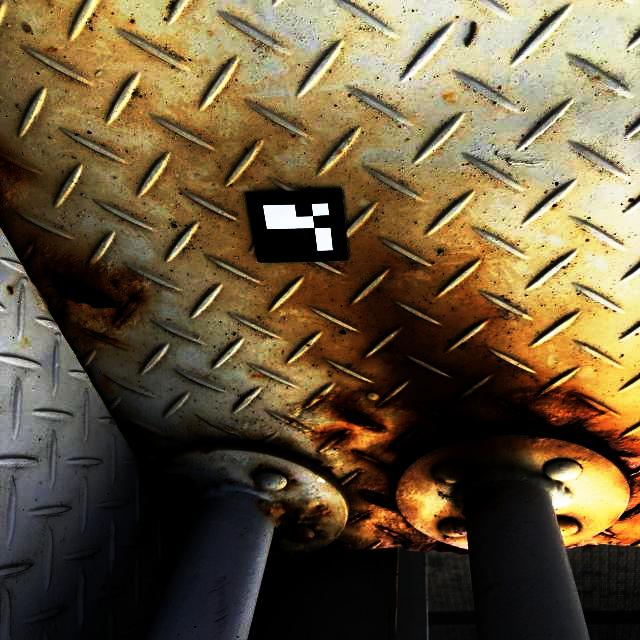Corrosion: (292, 387, 640, 555), (25, 249, 145, 348), (260, 501, 329, 559), (0, 157, 24, 214), (465, 490, 499, 507), (129, 435, 147, 463), (283, 527, 315, 542), (448, 520, 468, 534), (169, 530, 184, 541), (437, 478, 447, 484), (165, 436, 174, 441), (156, 574, 164, 579)
